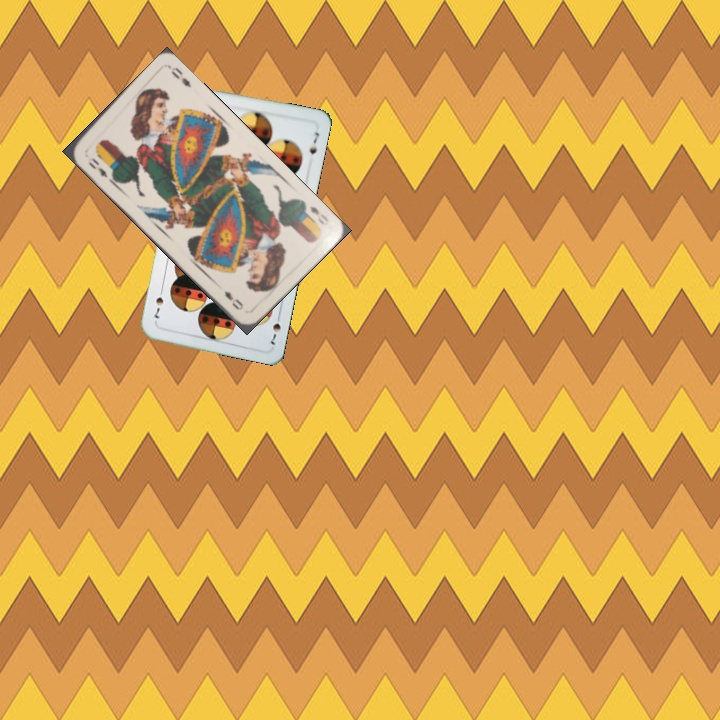EO: (83, 153, 110, 180), (306, 202, 331, 228)
S7: (266, 309, 284, 348)
